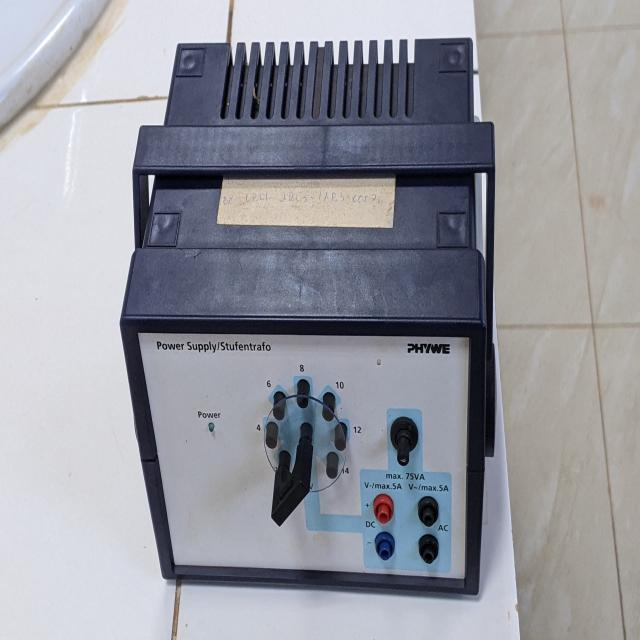Power Supply Stufentrafo_75VA: (104, 34, 510, 627)
